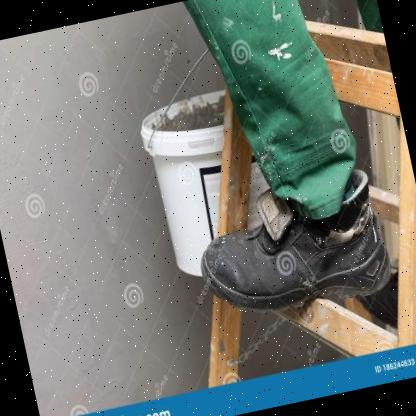bota: (184, 160, 400, 330)
